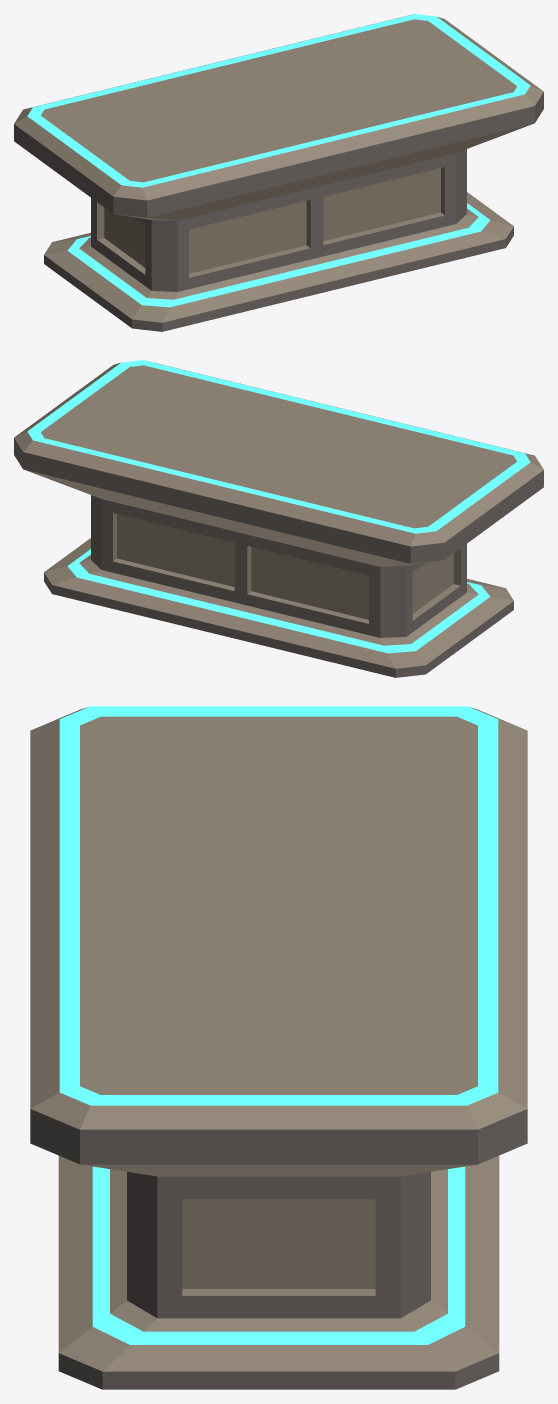
Rendered from BoardroomTable.fbx.
3 views of the same model, one above another, from view 1: azimuth 30°, elevation 25°; view 2: azimuth 150°, elevation 25°; view 3: azimuth 270°, elevation 25° (orthographic). The views are drawn at different scales.
Parts seen in each view (by area): view 1: BoardroomTable; view 2: BoardroomTable; view 3: BoardroomTable.
Part boxes in pixels (left/top/right/bottom): BoardroomTable: left=14, top=14, right=543, bottom=331; BoardroomTable: left=14, top=360, right=543, bottom=677; BoardroomTable: left=30, top=706, right=527, bottom=1389.
Bounding box in the file's own units: 300 × 99.18 × 150.
